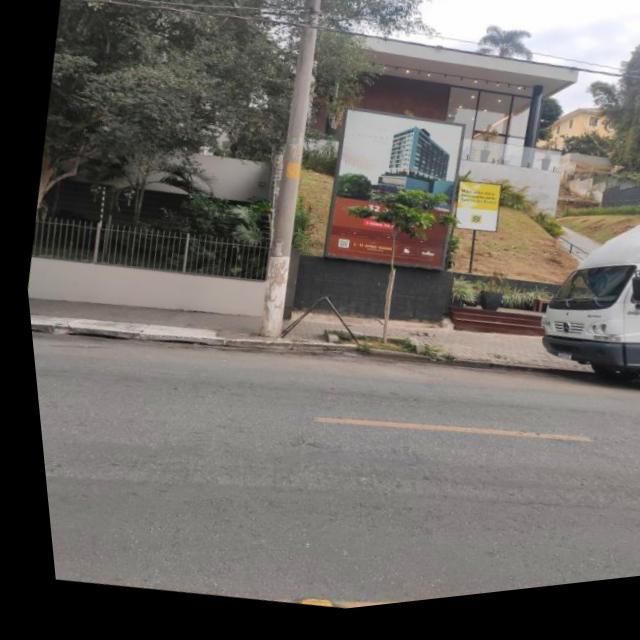qrcode: (334, 246, 343, 256)
